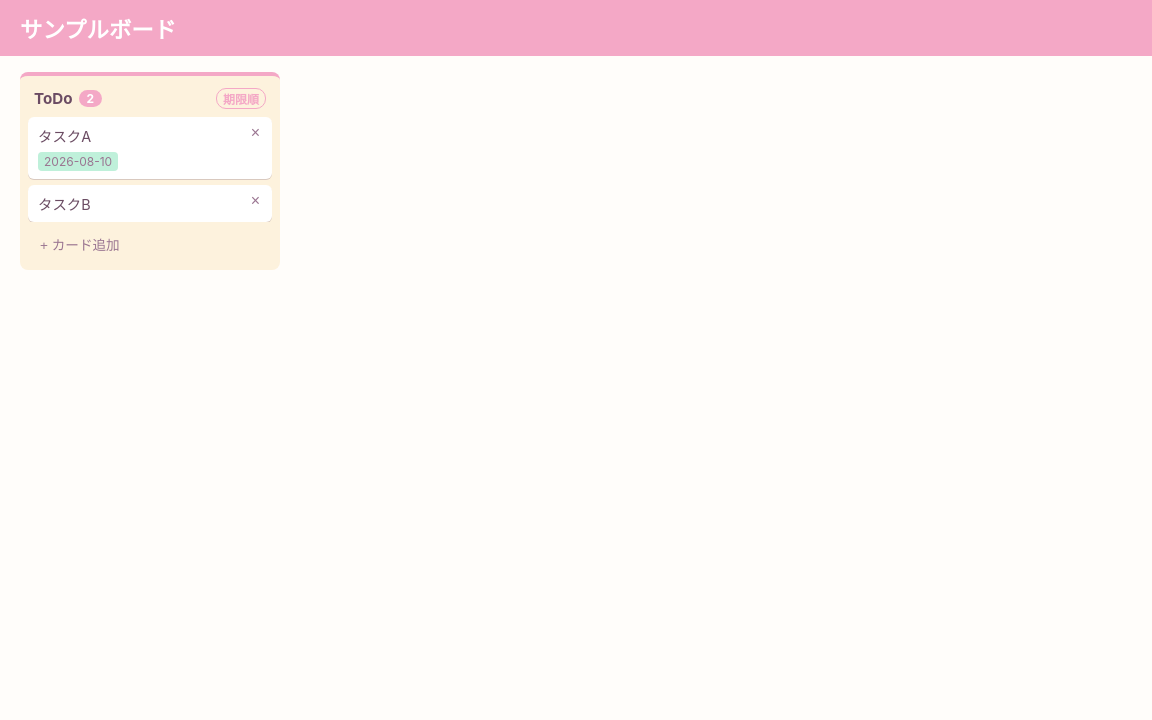
Scenario: BoardScreen › カードを削除すると画面から消え、ボードは再取得しない
The width and height of the screenshot is (1152, 720).
Expected: the heading "サンプルボード" is shown, 20,16 -> 176,43
Step 1. Click the button named "カードを削除" → x=255, y=133, box 249,125 -> 262,141
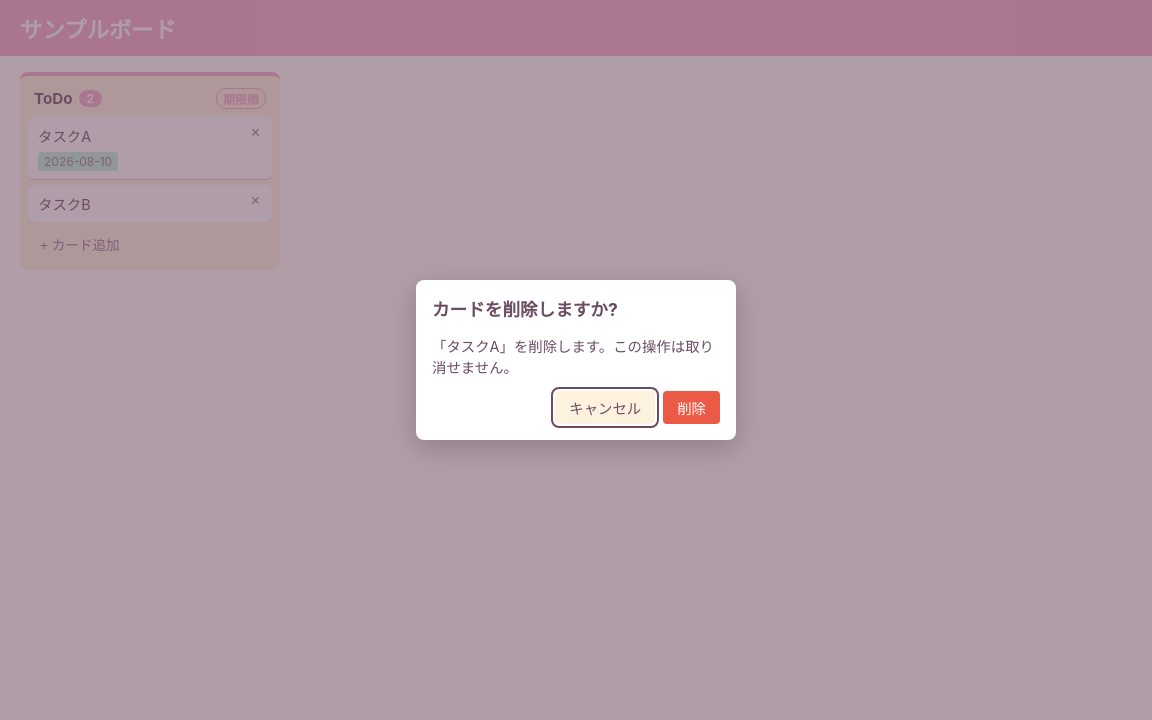
Step 2. Click the button "削除" → x=692, y=408, box 663,391 -> 720,424
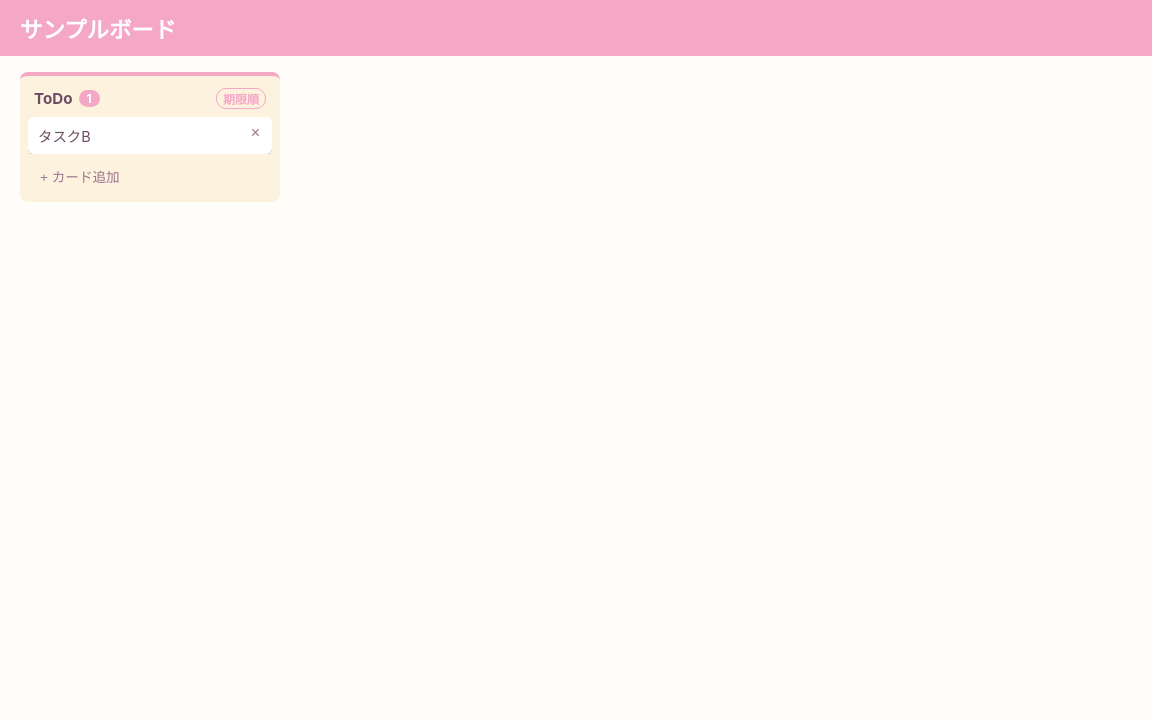
Expected: the text "タスクB" is shown, 38,125 -> 91,146
Expected: the text "タスクA" is gone
